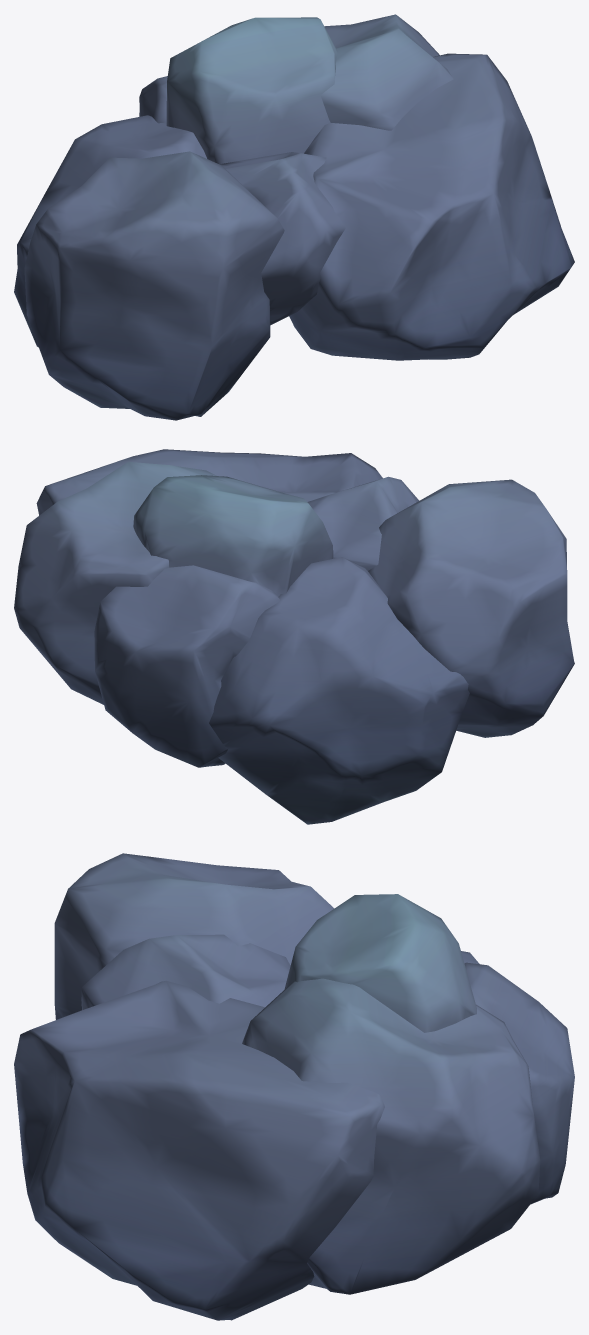
File: SM_Hill_RockWall_02.fbx
The picture shows the model from 3 angles, top to bottom: view 1: azimuth 30°, elevation 25°; view 2: azimuth 150°, elevation 25°; view 3: azimuth 270°, elevation 25°; orthographic projection. The views are drawn at different scales.
Parts seen in each view (by area): view 1: BigStone.002; view 2: BigStone.002; view 3: BigStone.002.
Boxes of the visible parts, x1,y1,x2,y2 form: BigStone.002: (14, 14, 574, 420); BigStone.002: (14, 449, 574, 824); BigStone.002: (14, 853, 574, 1320).
Bounding box in the file's own units: 1652 × 1020 × 1332.
1 material, 1 textured.
